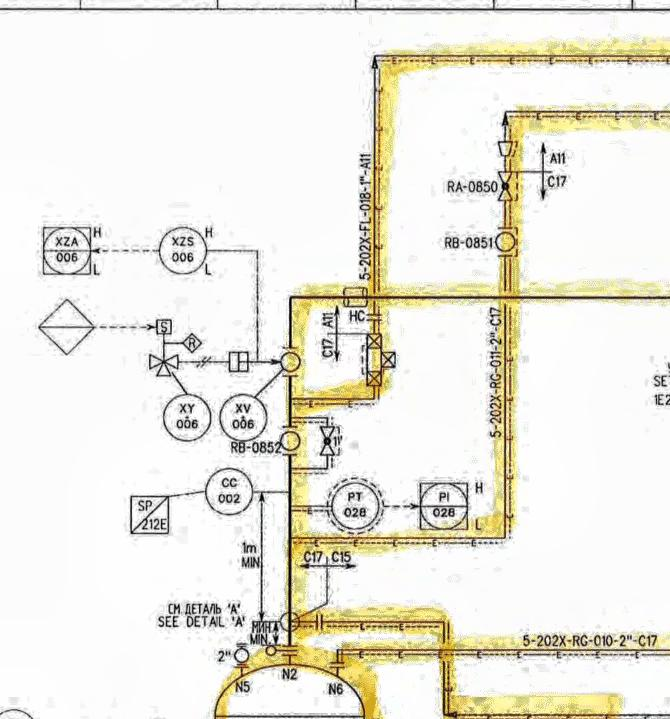2 WAY VALVE: (359, 326, 403, 391)
3 WAY GENERAL VALVE: (139, 347, 183, 379)
BLIND SPADE OPEN: (257, 640, 305, 664)
CONCENTRIC REDUCER: (492, 137, 520, 161)
DCS ACCESSIBLE: (414, 475, 481, 537), (36, 217, 98, 273)
DUPLEX RECEPTACLE: (337, 278, 375, 316)
END FLANGED: (322, 651, 353, 684), (307, 611, 330, 635)
FIELD INSTRUMENT: (202, 460, 258, 523), (155, 222, 211, 279), (323, 475, 379, 531), (159, 391, 215, 446), (220, 389, 266, 451), (278, 345, 302, 381), (277, 423, 302, 456), (493, 230, 518, 256), (230, 640, 250, 670)
GLOBE VALVE: (317, 423, 341, 459), (493, 167, 515, 204)
HARDWIRED INTERLOCK FIELD: (179, 330, 207, 358)
HARDWIRED INTERLOCK PRIMARY.: (36, 297, 100, 362)
SPECIAL PIPING ITEM: (122, 487, 179, 541)
SPEED FLOW METER: (148, 314, 178, 341)
